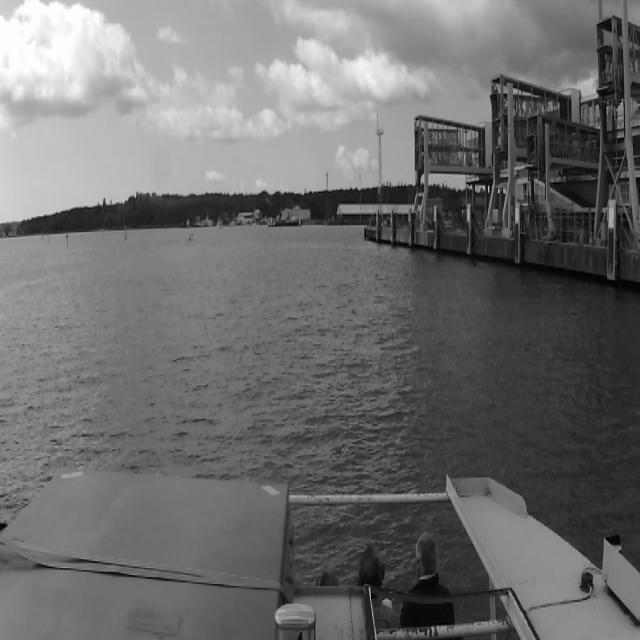buoy: (124, 225, 127, 241), (66, 232, 68, 250), (42, 231, 44, 239), (48, 234, 49, 244)
ship: (216, 217, 224, 229), (188, 234, 194, 242)
